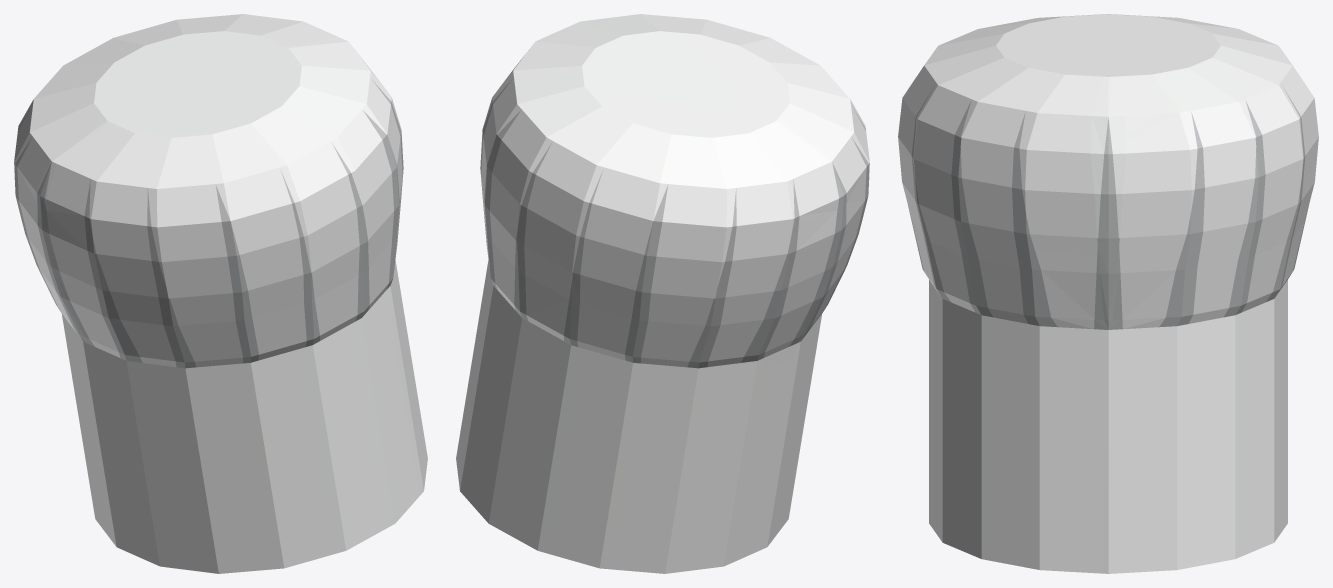
The model's file is CHEFS HAT.fbx.
The picture shows the model from 3 angles, left to right: view 1: azimuth 30°, elevation 25°; view 2: azimuth 150°, elevation 25°; view 3: azimuth 270°, elevation 25°; orthographic projection. The views are drawn at different scales.
Parts seen in each view (by area): view 1: CHEFS_HAT; view 2: CHEFS_HAT; view 3: CHEFS_HAT.
Boxes of the visible parts, x1,y1,x2,y2 form: CHEFS_HAT: (14, 14, 427, 573); CHEFS_HAT: (456, 14, 869, 573); CHEFS_HAT: (898, 14, 1318, 573).
Size of the model in its own units: 32.31 by 38.54 by 30.33.
